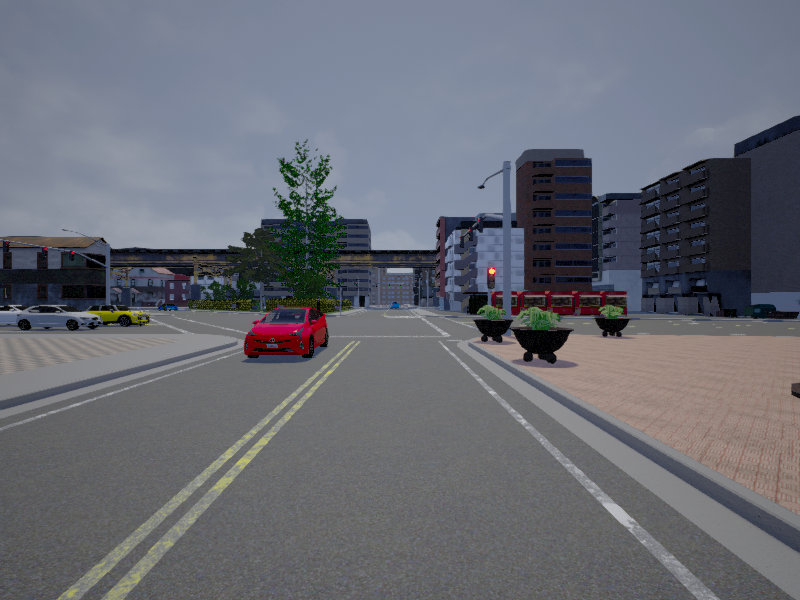Benign: (248, 306, 332, 356), (18, 306, 100, 330), (88, 303, 151, 328), (1, 306, 19, 322), (158, 302, 178, 313)
